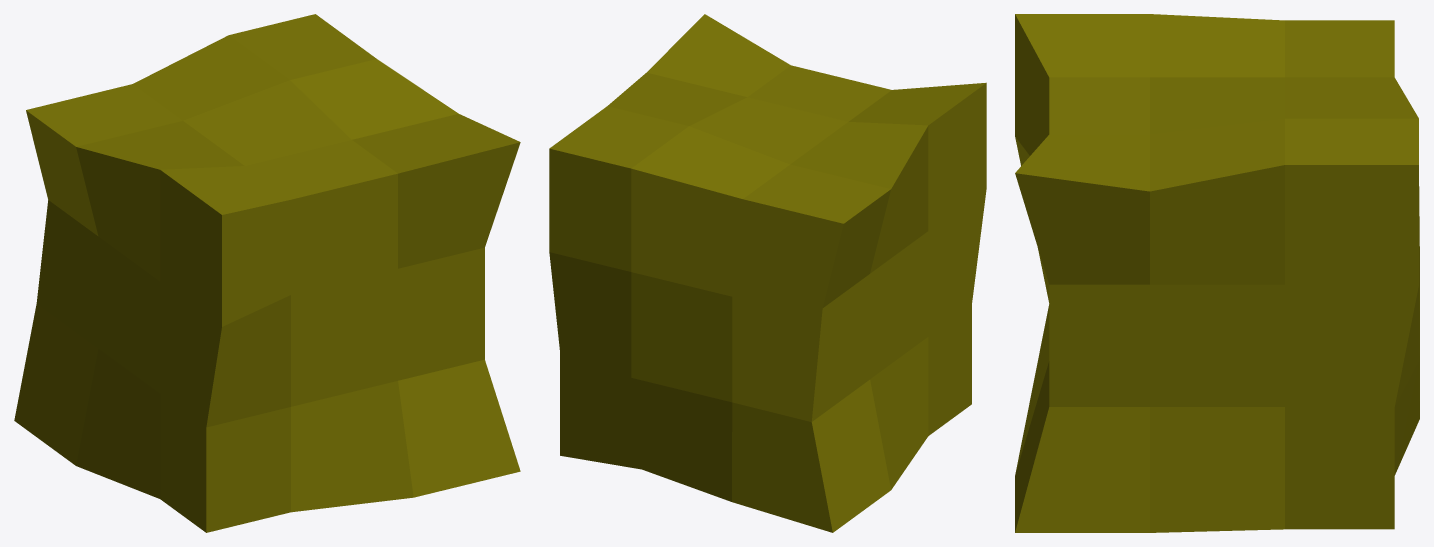
Rendered from skin_1_2_model.fbx.
3 renders of one model, left to right at view 1: azimuth 30°, elevation 25°; view 2: azimuth 150°, elevation 25°; view 3: azimuth 270°, elevation 25°, orthographic. The views are drawn at different scales.
Parts seen in each view (by area): view 1: Cube; view 2: Cube; view 3: Cube.
Part boxes in pixels (x1=…): Cube: x1=14, y1=14, x2=520, y2=532; Cube: x1=549, y1=14, x2=986, y2=532; Cube: x1=1015, y1=14, x2=1419, y2=532.
Size of the model in its own units: 200 by 200 by 200.
